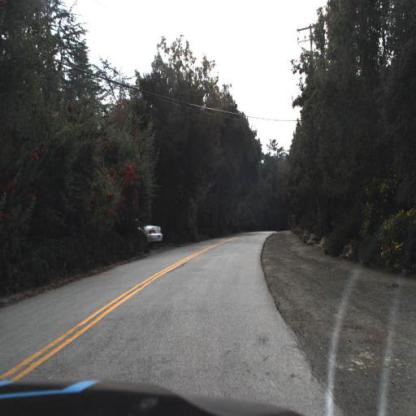car: (139, 219, 162, 250)
